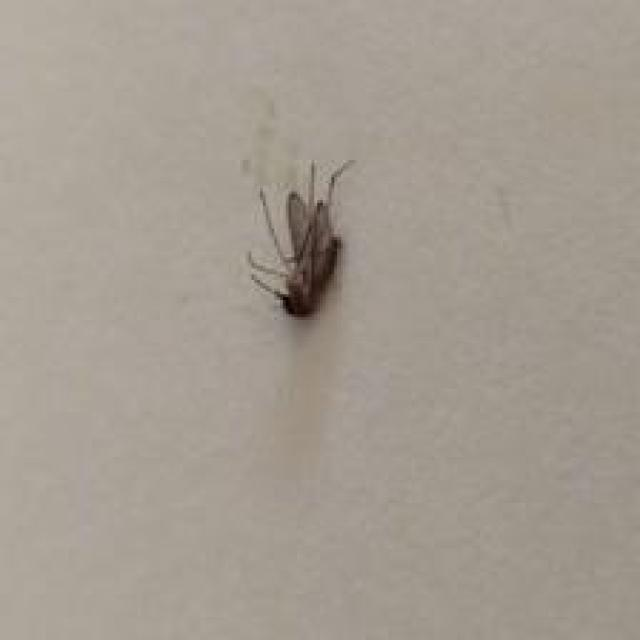Culex: (246, 156, 357, 318)
